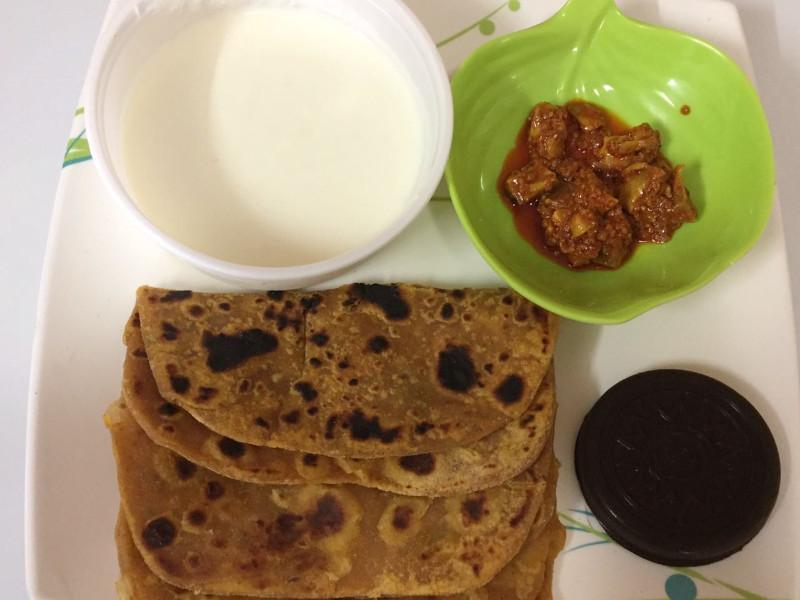aloo_paratha: (118, 288, 562, 600)
